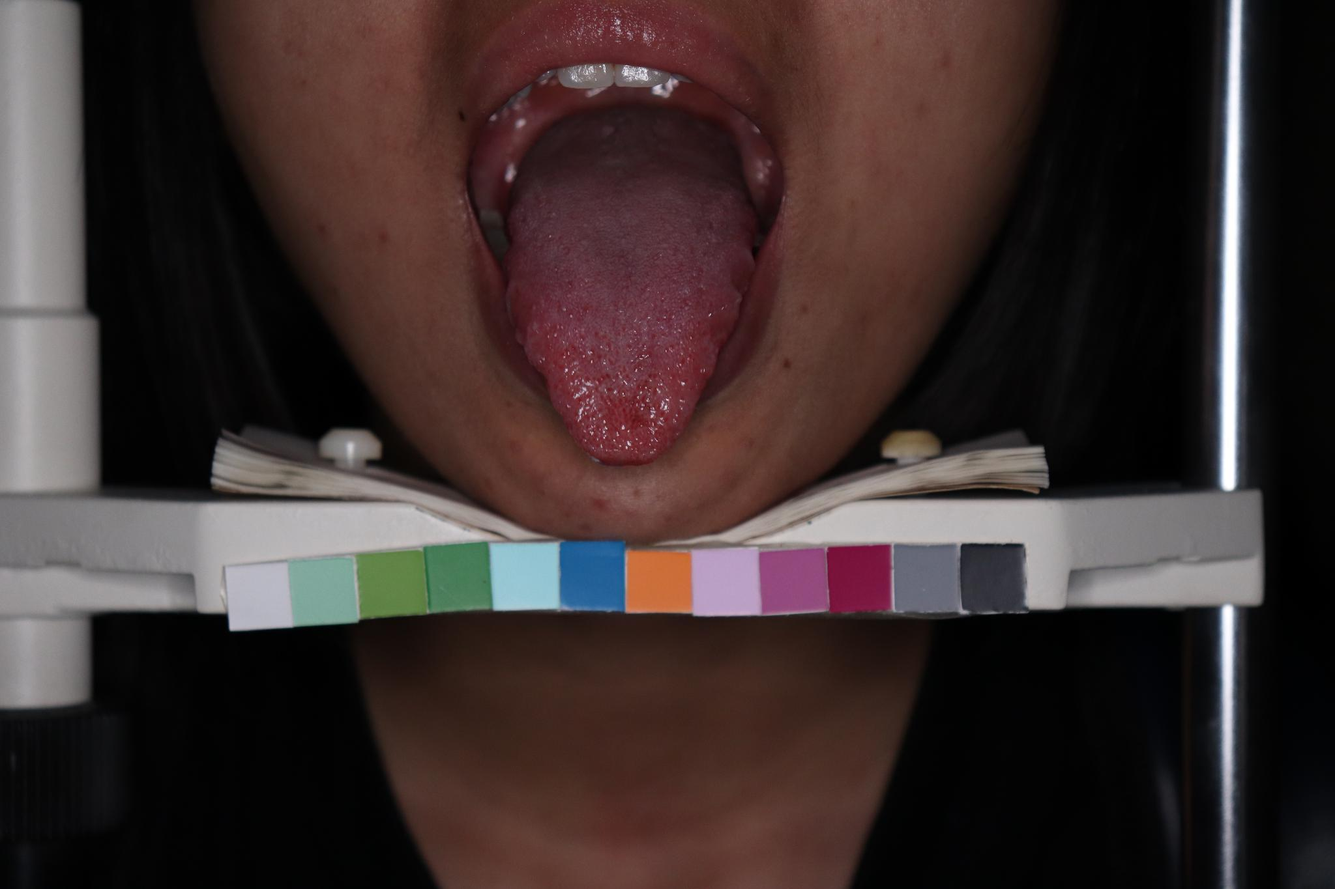baitaishe: (504, 104, 754, 467)
chihenshe: (726, 249, 755, 297)
hongdianshe: (604, 384, 613, 393), (591, 329, 599, 338), (604, 371, 612, 380), (646, 371, 652, 379)
